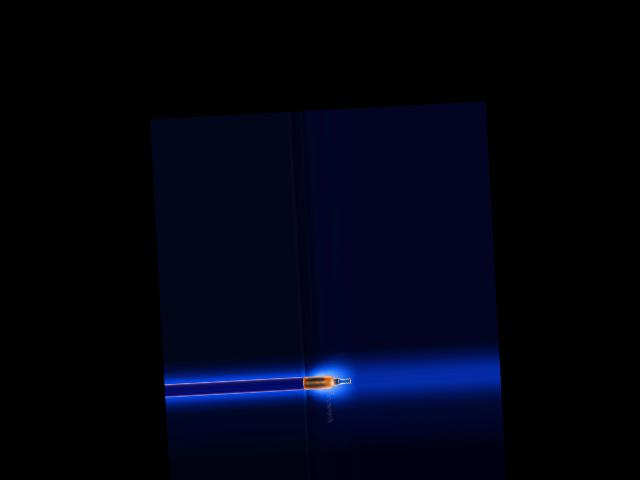beer: (302, 373, 350, 389)
